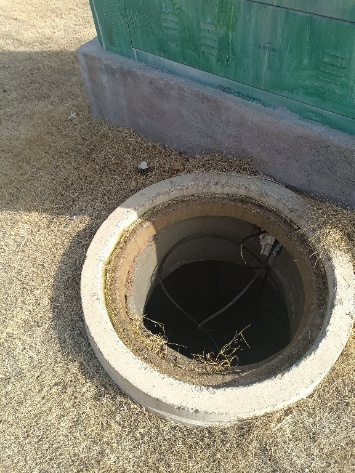lose: (79, 171, 355, 423)
